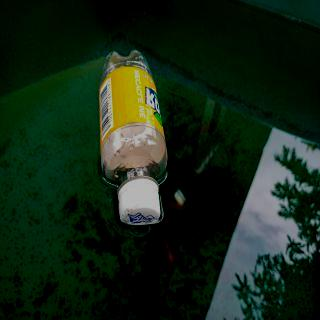bottle: (98, 45, 170, 226)
